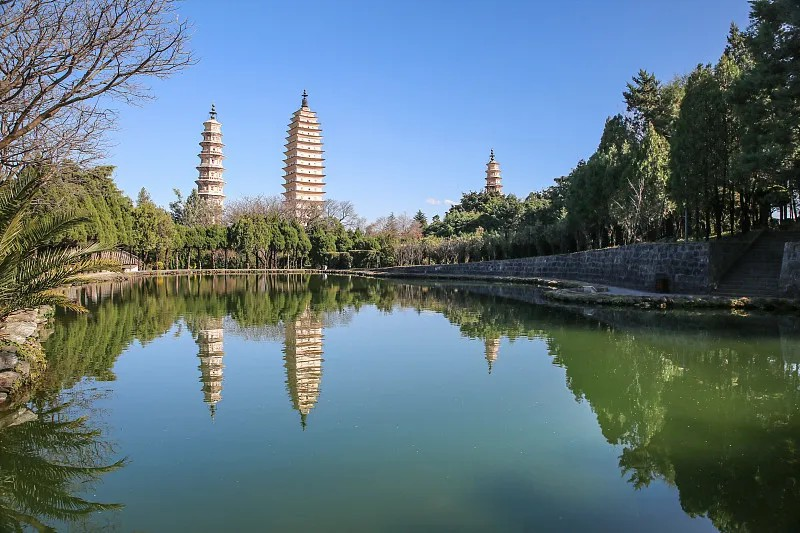ThreePagoda: (283, 90, 327, 218)
